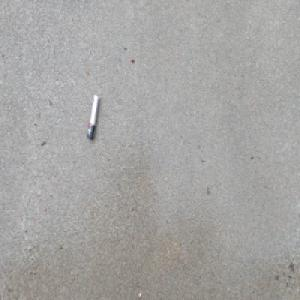Battery: (85, 91, 98, 140)
